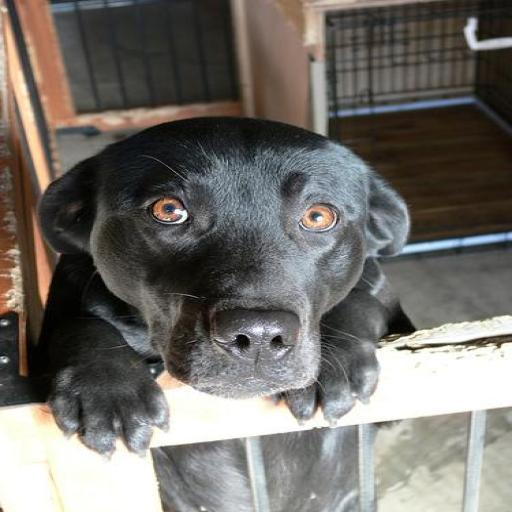dog_face: (35, 113, 407, 392)
